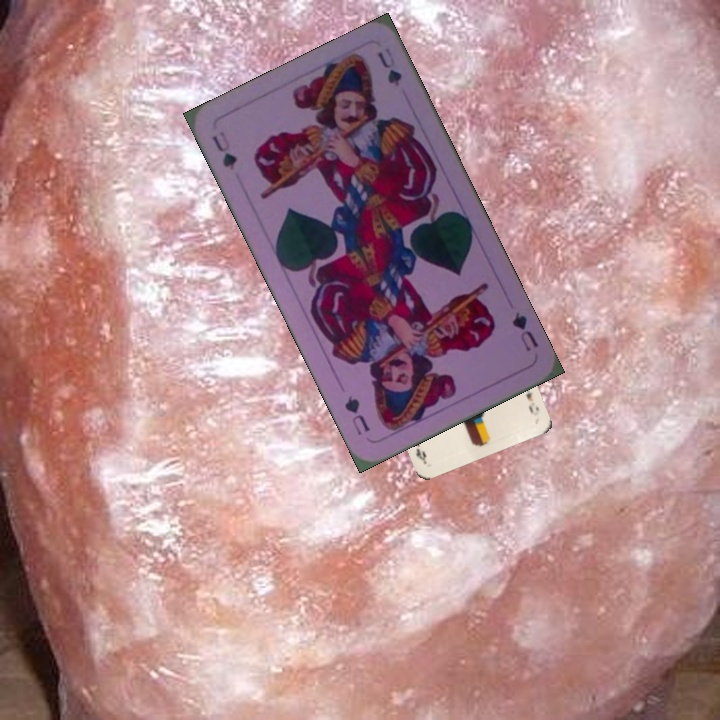E9: (522, 385, 536, 416)
GU: (507, 308, 541, 354), (207, 126, 240, 173)
